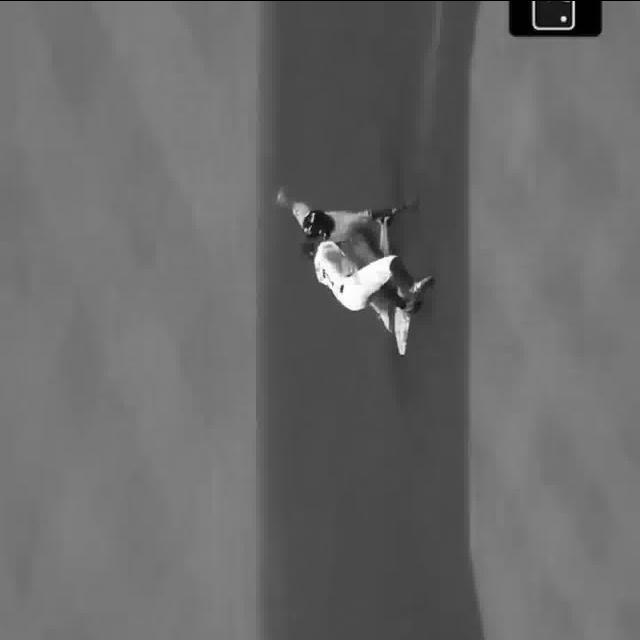base: (390, 288, 410, 356)
shoe: (408, 270, 434, 292), (403, 296, 423, 314)
